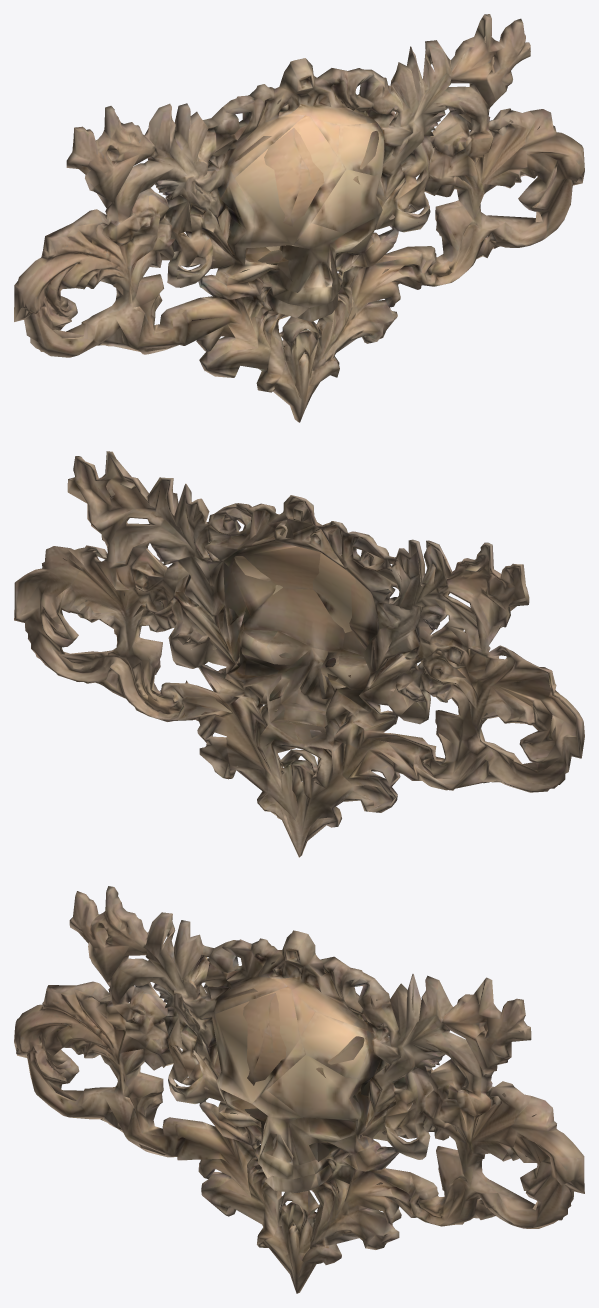
The model's file is baroque-skull-lite-v1.glb.
3 views of the same model, one above another, from view 1: azimuth 30°, elevation 25°; view 2: azimuth 150°, elevation 25°; view 3: azimuth 330°, elevation 25° (orthographic).
Parts seen in each view (by area): view 1: Object_4; view 2: Object_4; view 3: Object_4.
Boxes of the visible parts, <box> form: Object_4: <box>14,14,584,422</box>; Object_4: <box>14,451,584,857</box>; Object_4: <box>14,886,584,1293</box>.
Size of the model in its own units: 1.19 by 0.7254 by 0.0909.
Materials: 1 (1 with a texture image).
